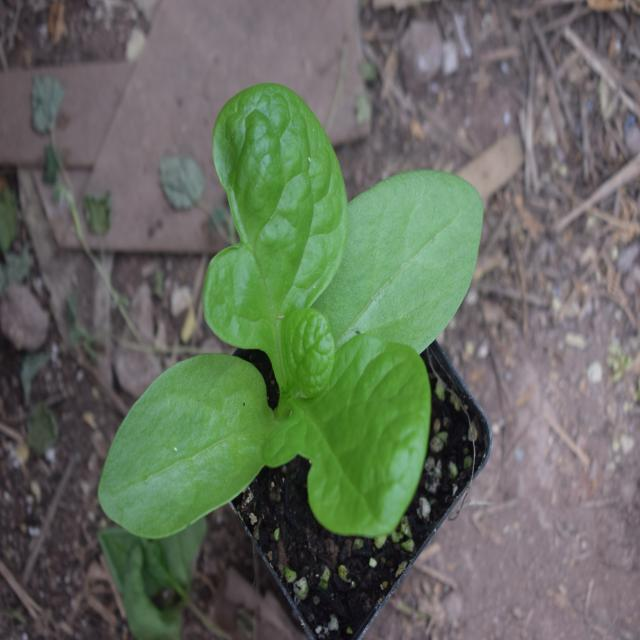Ceylon spinach: (116, 98, 482, 540)
